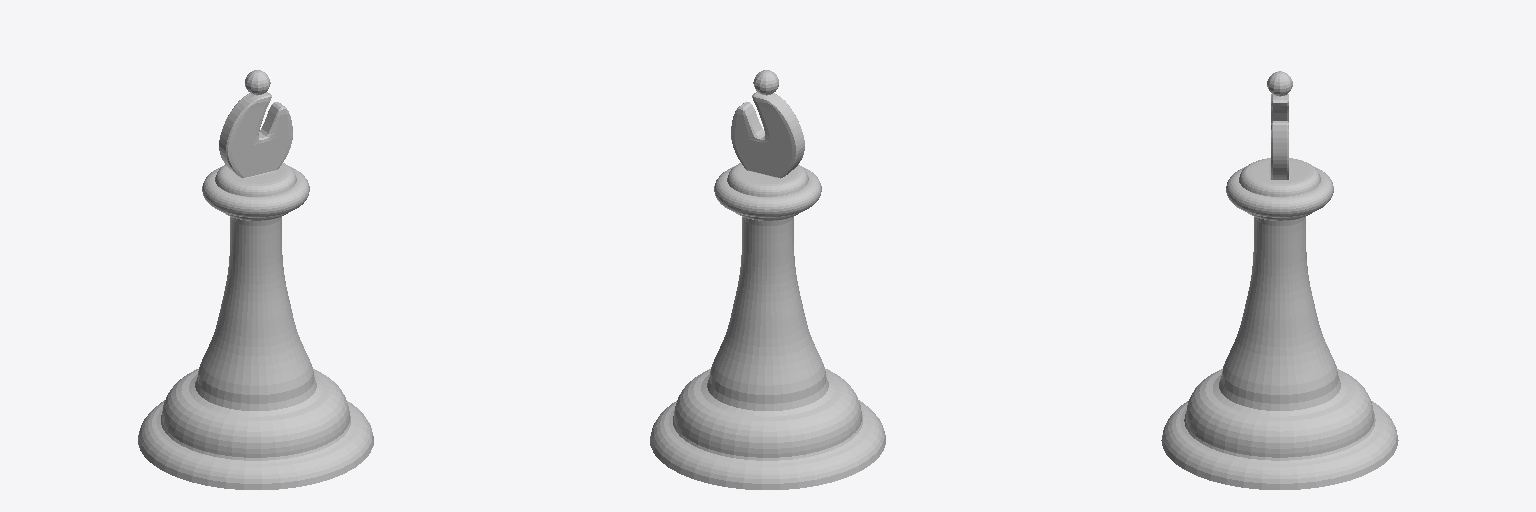
The model's file is finaldiagonalnear.obj.
3 renders of one model, left to right at view 1: azimuth 30°, elevation 25°; view 2: azimuth 150°, elevation 25°; view 3: azimuth 270°, elevation 25°, orthographic.
Parts seen in each view (by area): view 1: black_bishop2_Mesh.001; view 2: black_bishop2_Mesh.001; view 3: black_bishop2_Mesh.001.
Part boxes in pixels (bbox=[...]): black_bishop2_Mesh.001: bbox=[138, 70, 373, 489]; black_bishop2_Mesh.001: bbox=[650, 70, 885, 489]; black_bishop2_Mesh.001: bbox=[1161, 71, 1398, 489].
Size of the model in its own units: 0.4965 by 0.8558 by 0.4984.